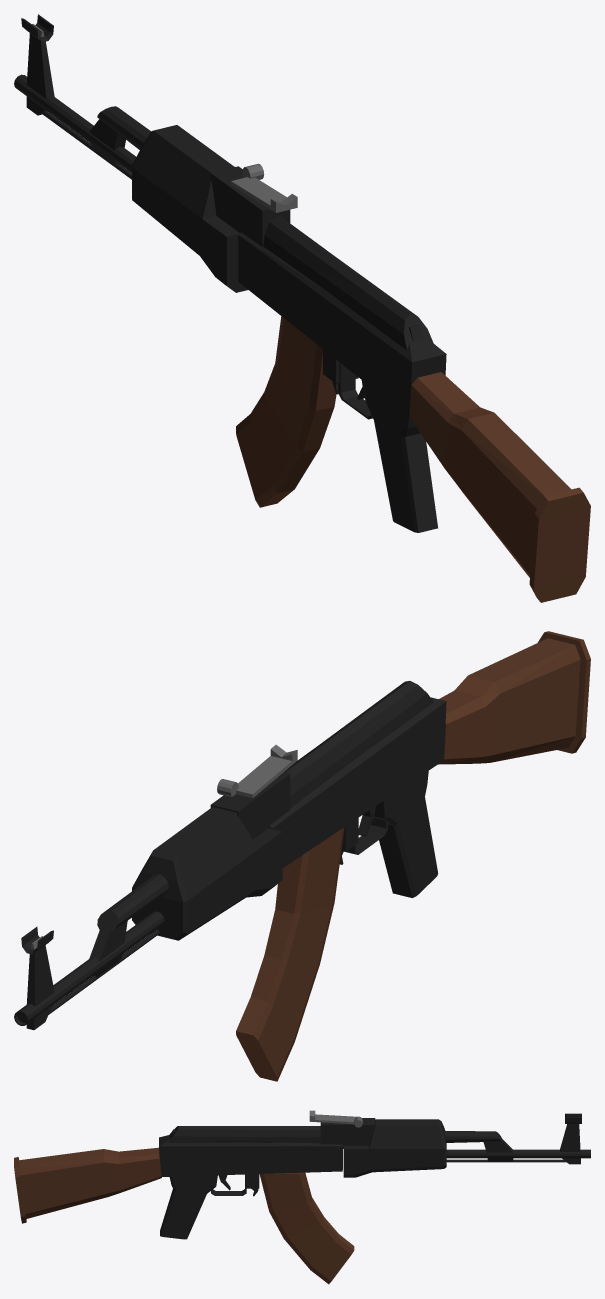
3 renders of one model, top to bottom at view 1: azimuth 30°, elevation 25°; view 2: azimuth 150°, elevation 25°; view 3: azimuth 270°, elevation 25°, orthographic. The views are drawn at different scales.
Parts seen in each view (by area): view 1: AssaultRIfle_01_Cube.002; view 2: AssaultRIfle_01_Cube.002; view 3: AssaultRIfle_01_Cube.002.
Boxes of the visible parts, box(x1,y1,x2,y2) form: AssaultRIfle_01_Cube.002: box(14, 14, 590, 602); AssaultRIfle_01_Cube.002: box(14, 631, 590, 1081); AssaultRIfle_01_Cube.002: box(14, 1110, 590, 1284).
Size of the model in its own units: 0.2721 by 1.49 by 4.63.
